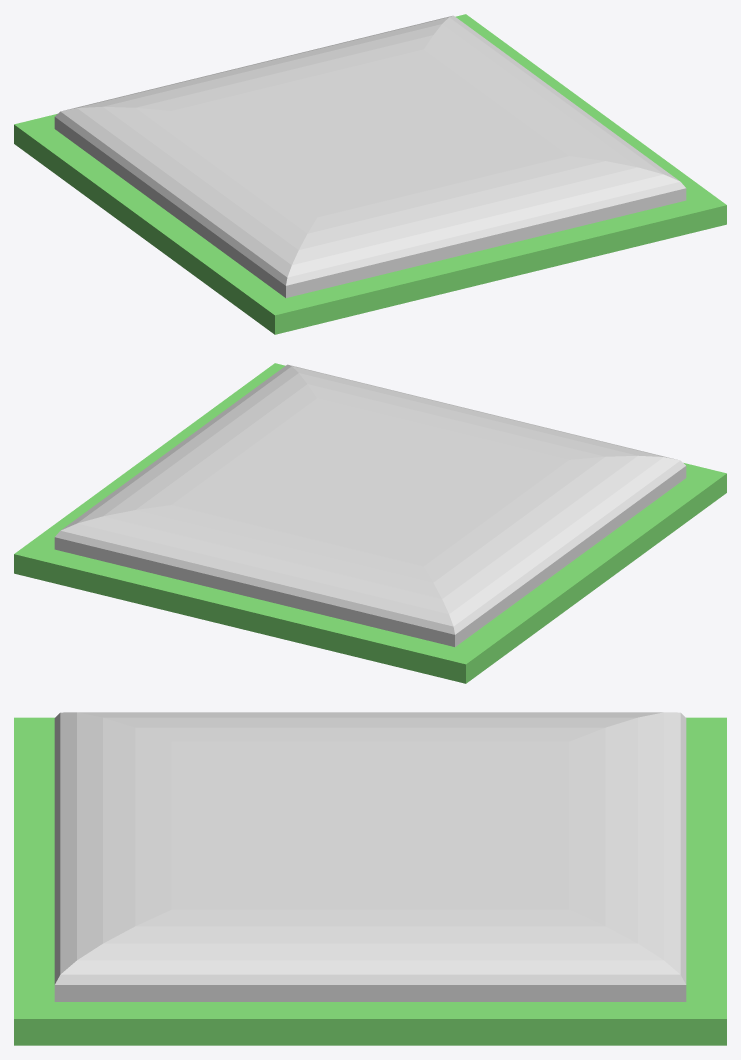
File: ProcessadorTeste.fbx
3 renders of one model, top to bottom at view 1: azimuth 30°, elevation 25°; view 2: azimuth 150°, elevation 25°; view 3: azimuth 270°, elevation 25°, orthographic. The views are drawn at different scales.
Parts seen in each view (by area): view 1: ProcessadorTeste; view 2: ProcessadorTeste; view 3: ProcessadorTeste.
Boxes of the visible parts, x1,y1,x2,y2 form: ProcessadorTeste: [14, 14, 726, 334]; ProcessadorTeste: [14, 363, 726, 683]; ProcessadorTeste: [14, 712, 726, 1045].
Size of the model in its own units: 38.34 by 4.11 by 38.34.
